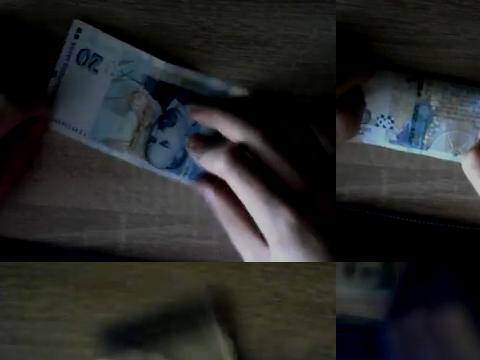10leva: (96, 285, 243, 360)
20leva: (47, 18, 247, 187), (350, 66, 480, 161)
